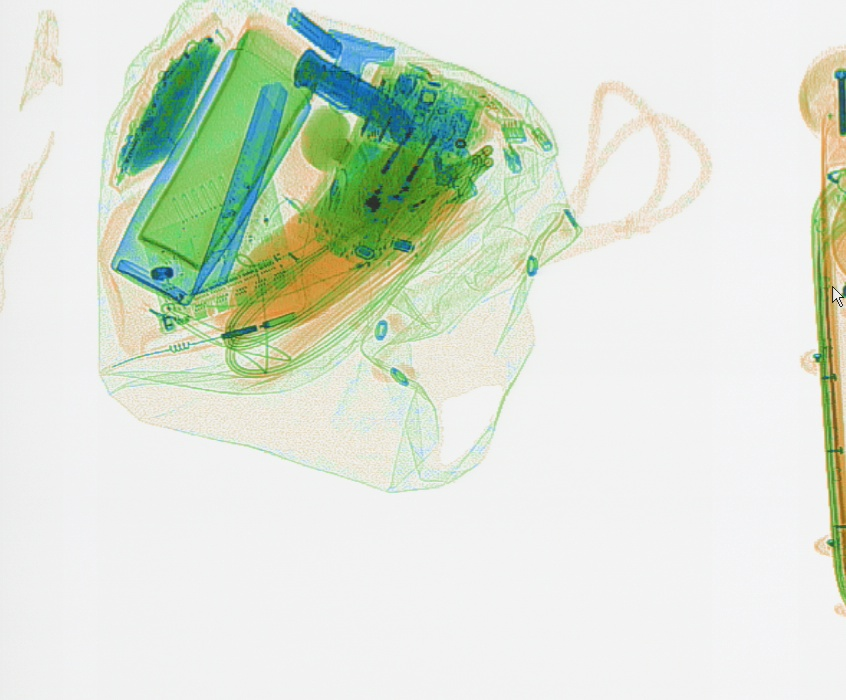knife: (189, 80, 290, 301), (292, 47, 412, 138)
